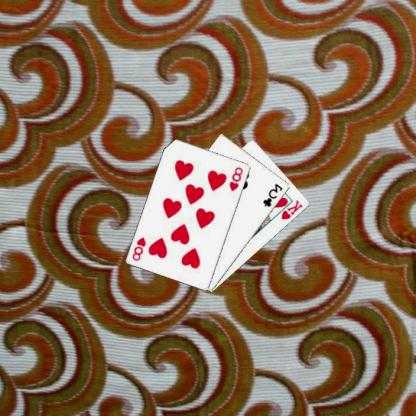3C: (262, 181, 286, 208)
8H: (228, 164, 245, 193), (132, 234, 149, 262)
KH: (281, 197, 306, 221)
